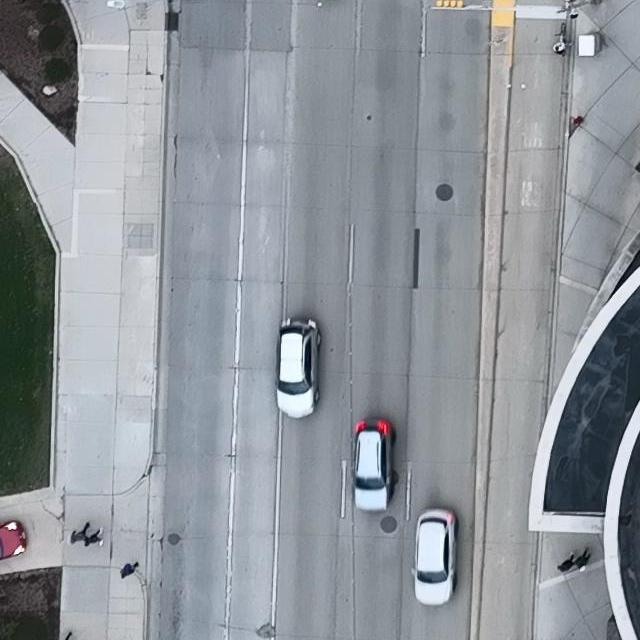car: (275, 317, 321, 418), (412, 508, 458, 605), (353, 418, 394, 512), (0, 520, 29, 561)
